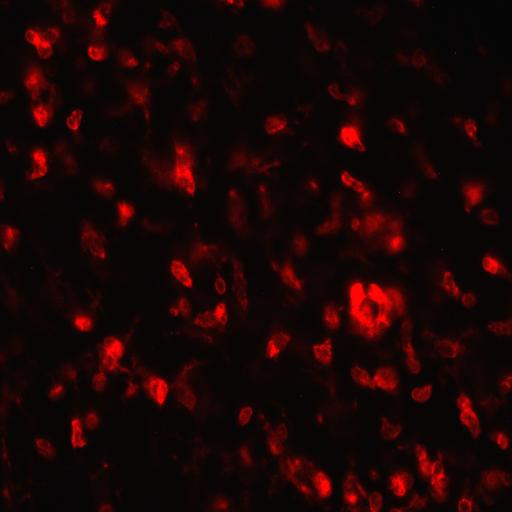microglia: (274, 259, 306, 303), (317, 192, 345, 239), (340, 112, 366, 155), (123, 78, 153, 114), (456, 395, 480, 438), (80, 220, 107, 258), (306, 22, 332, 60), (26, 28, 56, 60), (260, 113, 293, 141), (454, 117, 482, 149), (231, 260, 248, 312), (353, 3, 388, 28), (180, 100, 211, 128), (194, 303, 226, 330), (478, 467, 508, 495), (230, 34, 262, 60), (170, 37, 202, 63), (461, 182, 485, 214), (100, 337, 124, 368), (312, 468, 332, 505), (228, 68, 248, 105), (265, 422, 288, 454), (373, 365, 399, 392), (189, 238, 217, 262), (266, 331, 290, 358), (229, 188, 246, 226), (170, 260, 193, 288), (333, 41, 354, 71), (428, 468, 449, 498), (402, 338, 421, 371), (351, 365, 375, 390), (342, 474, 362, 504), (256, 185, 275, 216), (148, 377, 169, 405), (387, 472, 410, 497), (29, 149, 48, 179), (116, 200, 136, 227), (91, 176, 115, 198), (379, 416, 401, 440), (175, 169, 196, 194), (367, 281, 386, 308), (70, 417, 86, 449), (2, 224, 20, 252), (100, 139, 128, 157), (481, 202, 500, 228), (230, 148, 248, 175), (434, 338, 458, 358), (441, 272, 459, 298), (118, 50, 140, 71), (168, 297, 190, 318), (158, 9, 178, 32), (313, 340, 332, 364), (171, 147, 195, 166), (34, 438, 55, 459), (433, 66, 453, 88), (402, 184, 425, 203), (346, 84, 364, 108), (483, 100, 501, 124), (323, 304, 340, 329), (284, 451, 305, 471), (349, 283, 365, 309), (256, 158, 280, 175), (302, 174, 320, 196), (179, 389, 197, 411), (62, 362, 80, 384), (356, 181, 374, 203), (327, 80, 344, 103), (488, 320, 512, 336), (421, 162, 440, 182), (411, 384, 432, 402), (386, 238, 407, 256), (24, 69, 41, 91), (294, 233, 309, 257), (66, 109, 83, 130), (152, 38, 170, 57), (417, 459, 435, 478), (366, 215, 384, 233), (54, 139, 72, 157), (386, 118, 406, 134), (33, 106, 49, 126), (6, 284, 19, 308), (482, 256, 499, 274), (92, 7, 108, 26), (410, 49, 426, 67), (88, 46, 106, 62), (211, 495, 230, 510), (48, 383, 64, 400), (74, 316, 92, 331), (92, 373, 107, 391), (0, 437, 10, 464), (414, 443, 428, 462), (374, 314, 393, 328), (64, 156, 80, 172), (224, 0, 247, 11), (368, 492, 382, 510), (457, 393, 471, 410), (239, 407, 252, 425), (3, 488, 16, 506), (240, 446, 252, 465), (262, 0, 281, 12), (88, 295, 103, 310), (462, 292, 476, 308), (86, 81, 100, 97), (85, 412, 98, 429), (64, 12, 81, 25), (352, 214, 362, 235), (495, 432, 508, 448), (194, 444, 207, 460), (214, 277, 226, 294), (500, 376, 512, 393), (125, 379, 137, 396), (168, 61, 181, 76), (190, 74, 202, 90), (458, 498, 471, 512), (49, 268, 64, 280), (5, 140, 18, 153), (1, 89, 12, 104), (410, 0, 424, 10), (183, 462, 194, 474), (341, 171, 351, 184), (101, 461, 112, 472), (479, 45, 489, 57), (298, 483, 307, 496), (99, 503, 112, 511), (329, 383, 337, 396), (351, 399, 358, 413), (0, 402, 8, 414), (12, 395, 20, 406), (74, 59, 82, 70), (369, 470, 378, 479), (170, 454, 181, 460), (26, 490, 33, 499), (317, 413, 323, 423)
